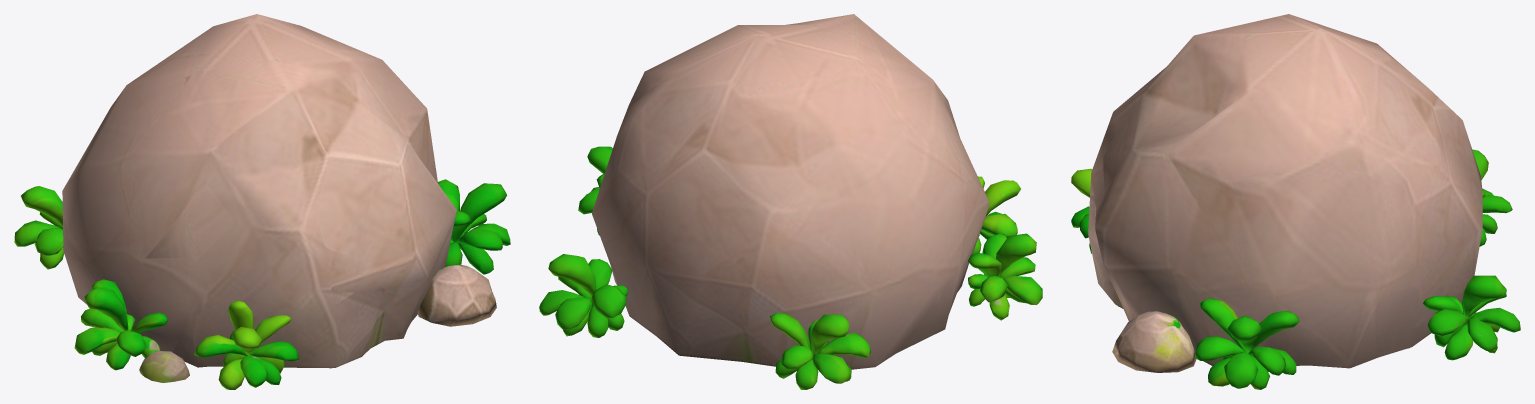
The model's file is r3c2_grey_boulder.glb.
3 renders of one model, left to right at view 1: azimuth 30°, elevation 25°; view 2: azimuth 150°, elevation 25°; view 3: azimuth 270°, elevation 25°, orthographic.
Bounding box in the file's own units: 1 × 0.5977 × 0.877.
1 material, 1 textured.
